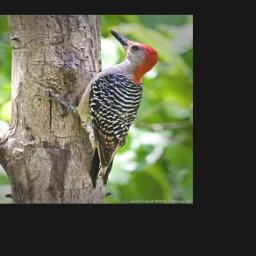Woodpecker: (32, 27, 167, 189)
